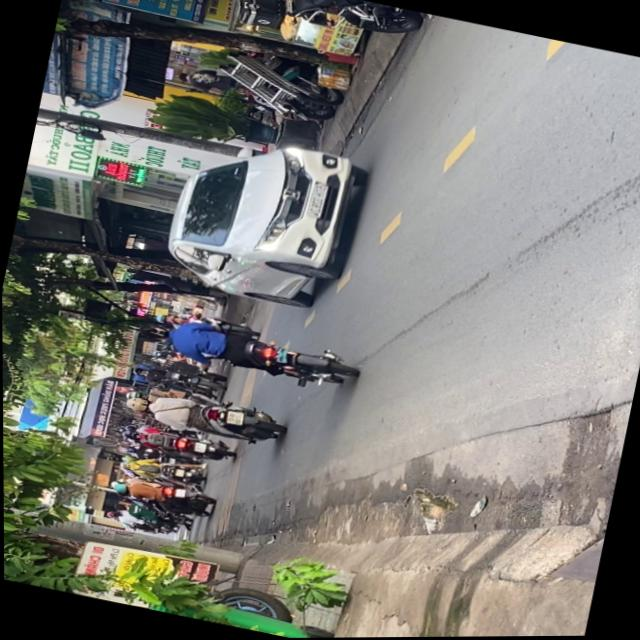helmet: (123, 393, 150, 412)
licenseplate: (131, 305, 360, 398), (121, 378, 286, 451)
motorcyclist: (136, 321, 170, 343)
nohelmet: (224, 408, 243, 424)
